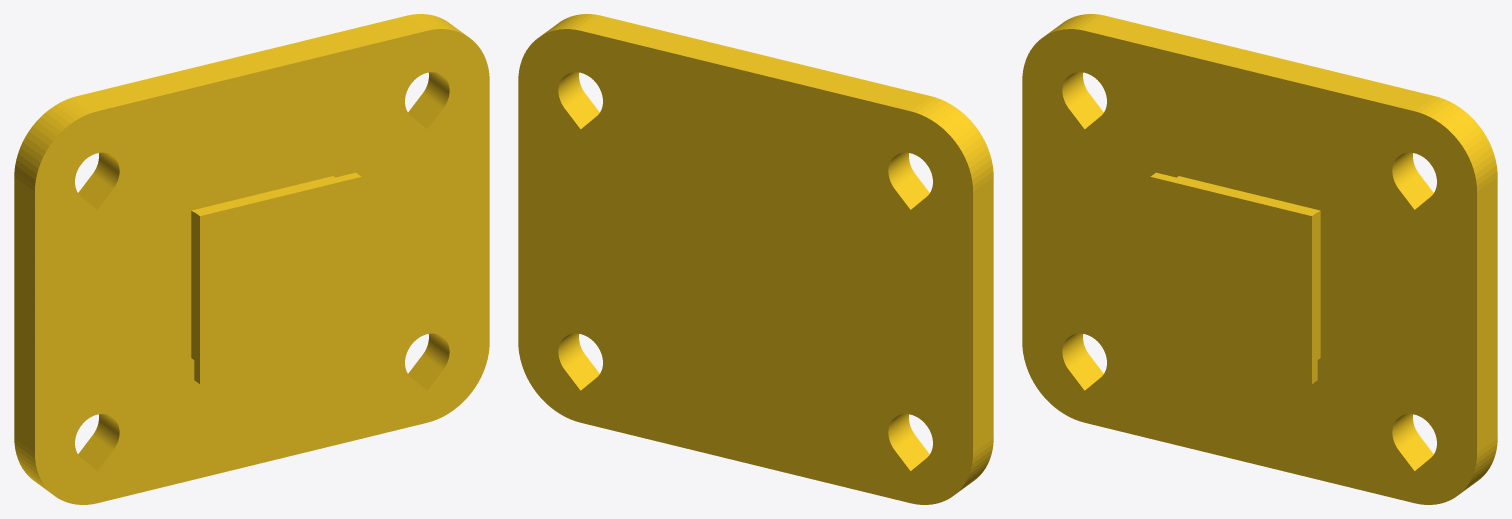
Rendered from waveshare_mounting_plate_so101_v2.glb.
3 views of the same model, side by side, from view 1: azimuth 30°, elevation 25°; view 2: azimuth 150°, elevation 25°; view 3: azimuth 330°, elevation 25° (orthographic).
Visible parts, largest first — view 1: waveshare_mounting_plate_so101_v2; view 2: waveshare_mounting_plate_so101_v2; view 3: waveshare_mounting_plate_so101_v2.
Boxes of the visible parts, box(x1,y1,x2,y2) form: waveshare_mounting_plate_so101_v2: box(14, 14, 489, 504); waveshare_mounting_plate_so101_v2: box(518, 14, 993, 504); waveshare_mounting_plate_so101_v2: box(1022, 14, 1497, 504).
Bounding box in the file's own units: 0.051 × 0.042 × 0.0076.
